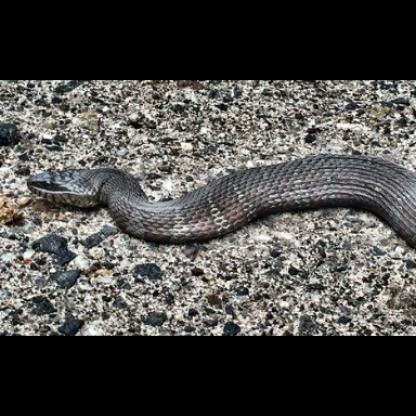Snake: (25, 151, 412, 264)
